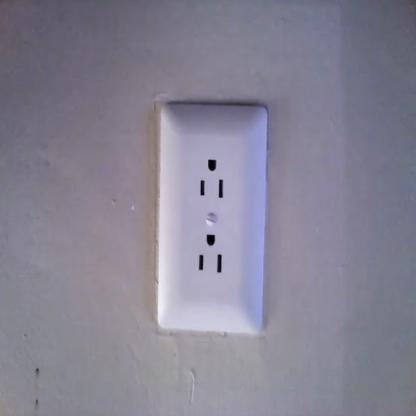OUTLET: (159, 104, 266, 329)
